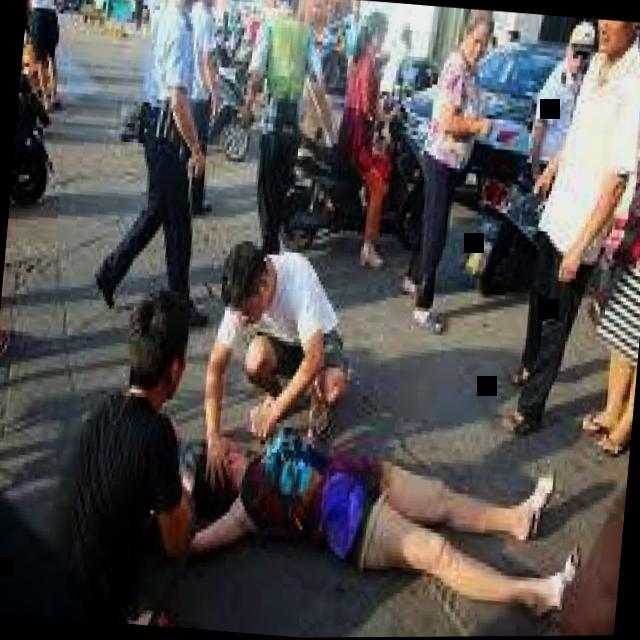Fall-Detected: (154, 397, 584, 610)
